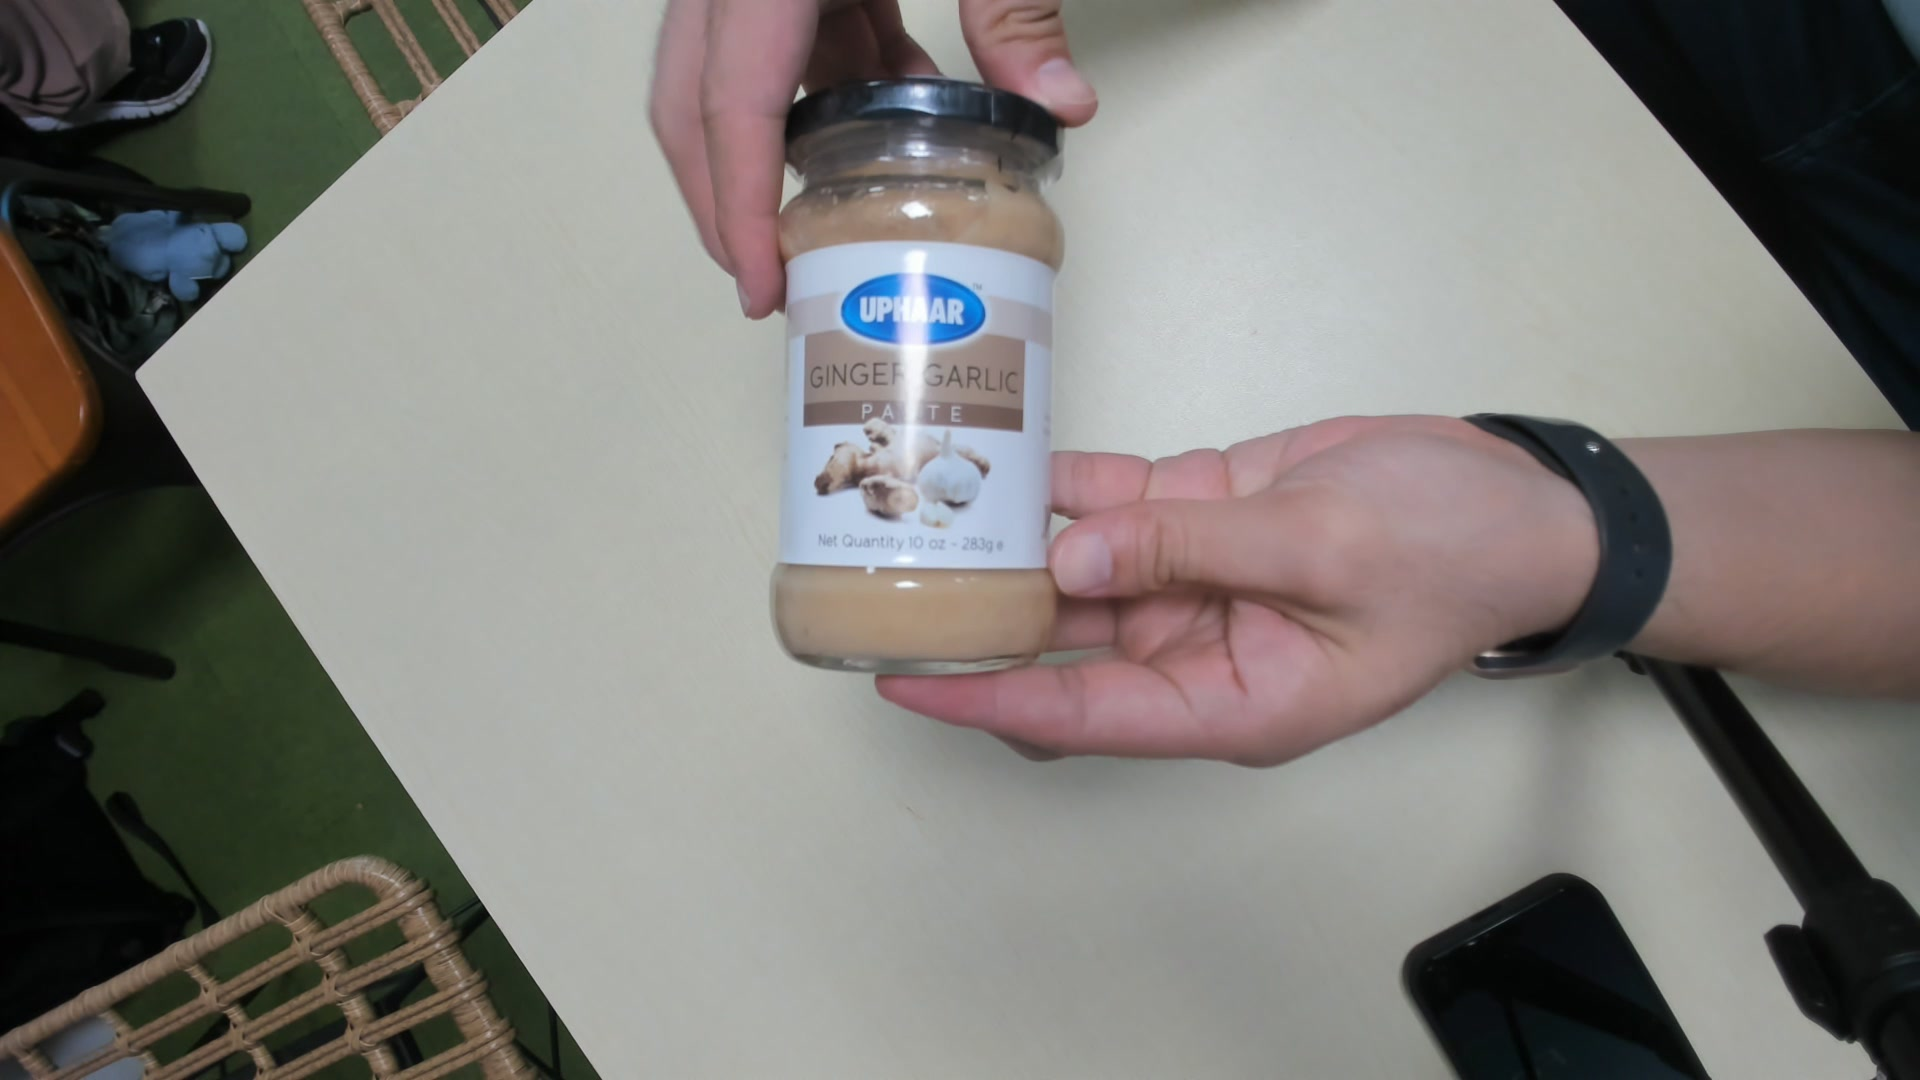OtherSauceDressing_200-299g_NonHalal_NonHealthy: (779, 84, 1060, 674)
